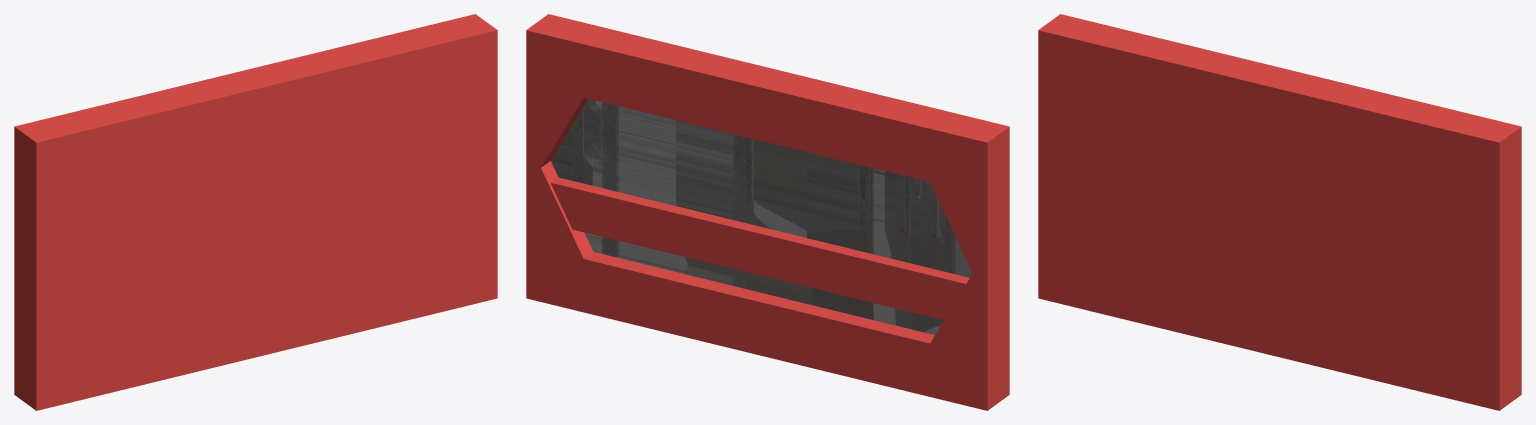
The model's file is Dimond_mid.fbx.
3 renders of one model, left to right at view 1: azimuth 30°, elevation 25°; view 2: azimuth 150°, elevation 25°; view 3: azimuth 330°, elevation 25°, orthographic.
Parts seen in each view (by area): view 1: Cylinder.015; view 2: Cylinder.015; view 3: Cylinder.015.
Boxes of the visible parts, left/top/right/bottom form: Cylinder.015: left=14, top=14, right=497, bottom=410; Cylinder.015: left=526, top=14, right=1009, bottom=410; Cylinder.015: left=1038, top=14, right=1521, bottom=410.
Size of the model in its own units: 1800 by 1000 by 150.
